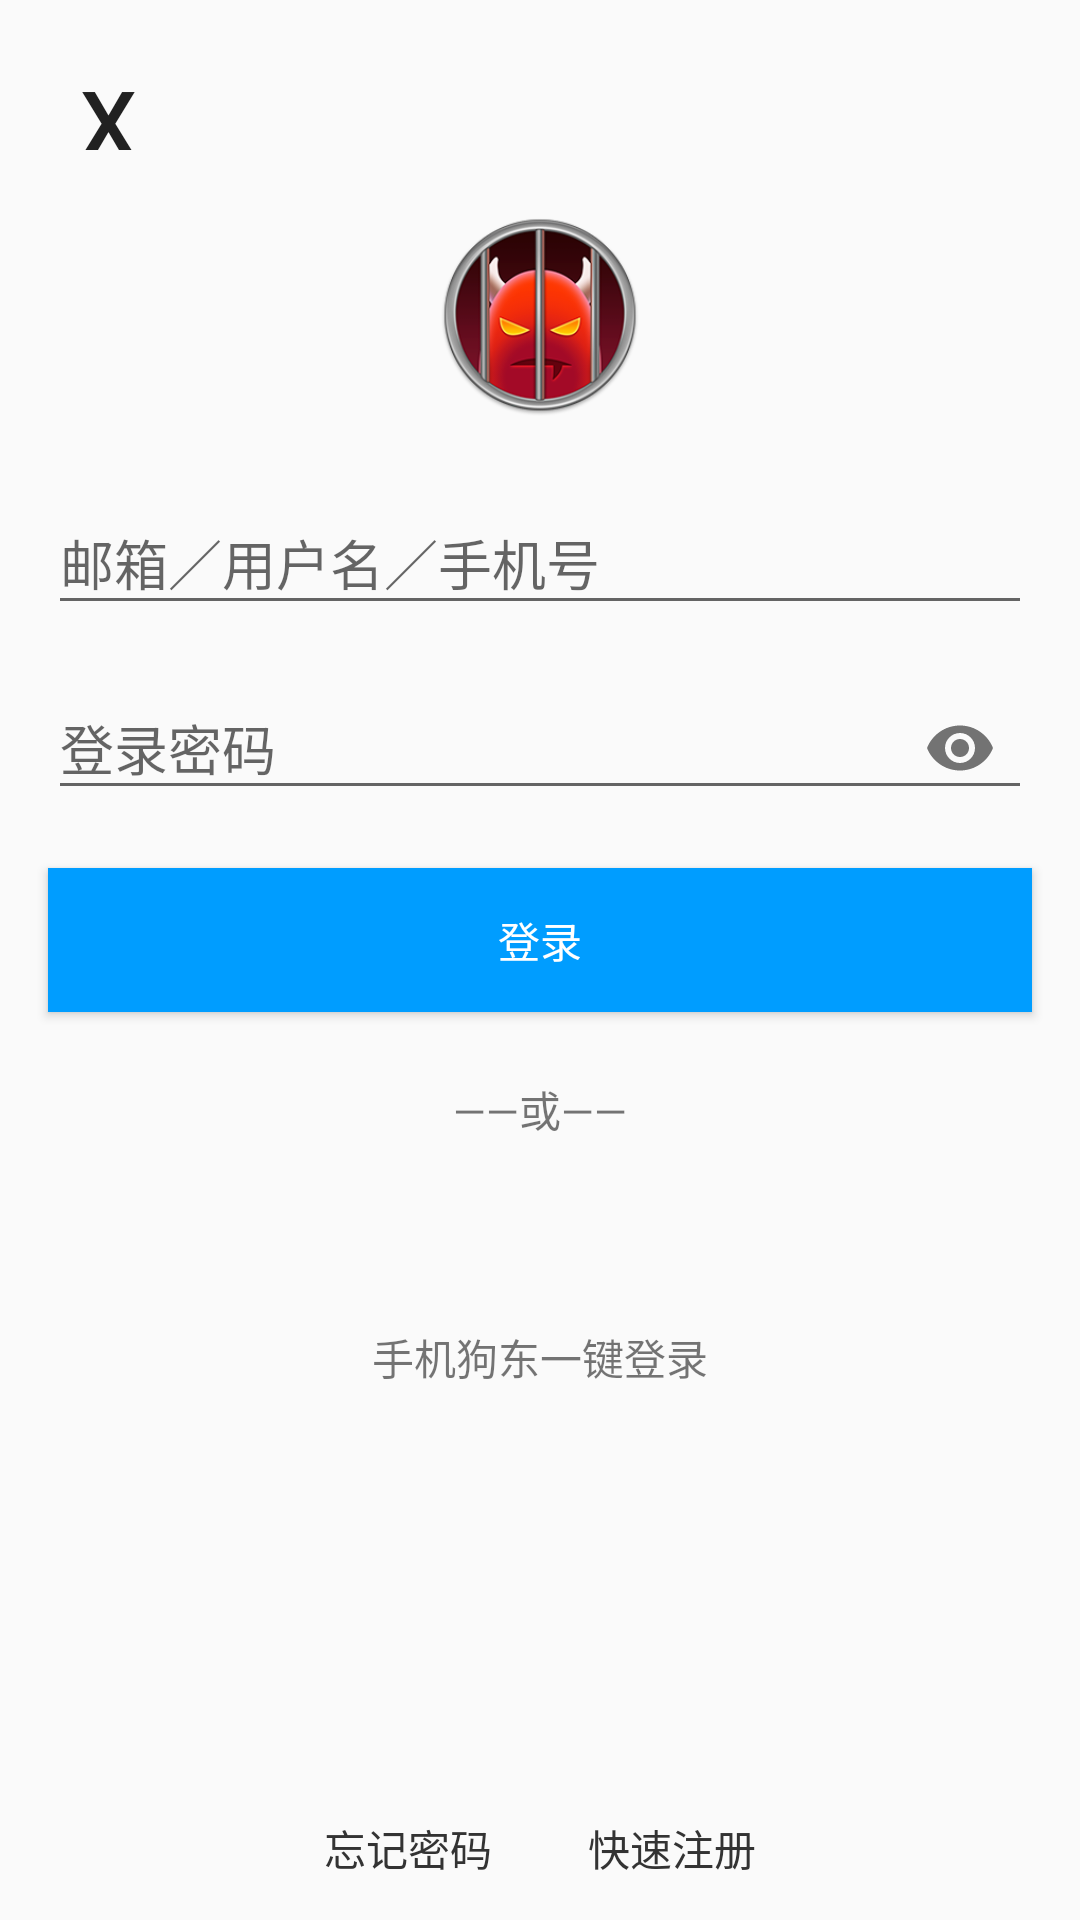

Icons on this 1080px×1920px Android screen, each with the point to tap as [x,y]:
demon: [540,316]
